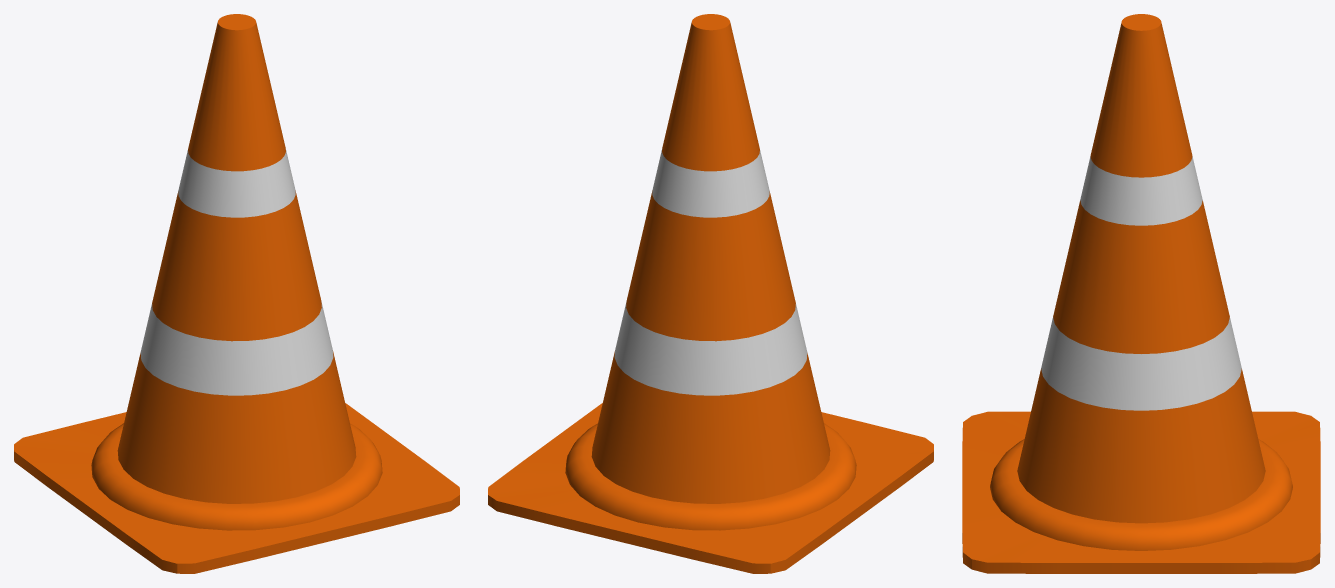
File: Pylon.fbx
3 views of the same model, side by side, from view 1: azimuth 30°, elevation 25°; view 2: azimuth 150°, elevation 25°; view 3: azimuth 270°, elevation 25° (orthographic). The views are drawn at different scales.
Parts seen in each view (by area): view 1: Pylon; view 2: Pylon; view 3: Pylon.
Boxes of the visible parts, x1=… form: Pylon: x1=14, y1=14, x2=459, y2=573; Pylon: x1=488, y1=14, x2=933, y2=573; Pylon: x1=962, y1=14, x2=1320, y2=573.
Size of the model in its own units: 106 by 155 by 106.
